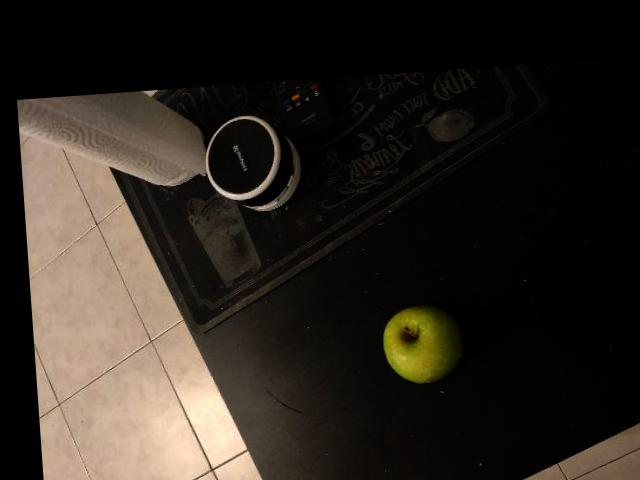apple: (369, 297, 492, 394)
